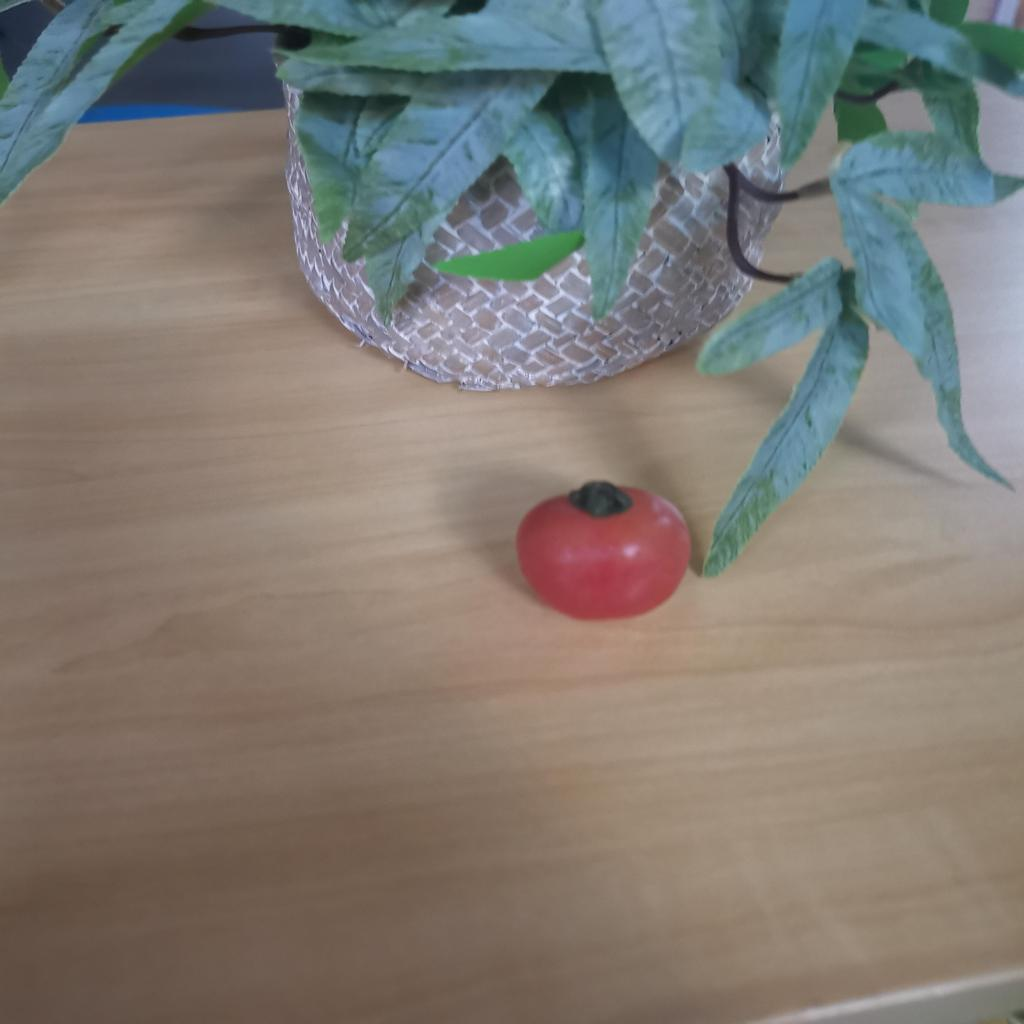tomato: (511, 480, 700, 620)
